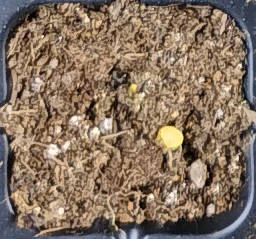pepper seed: (63, 49, 249, 200)
